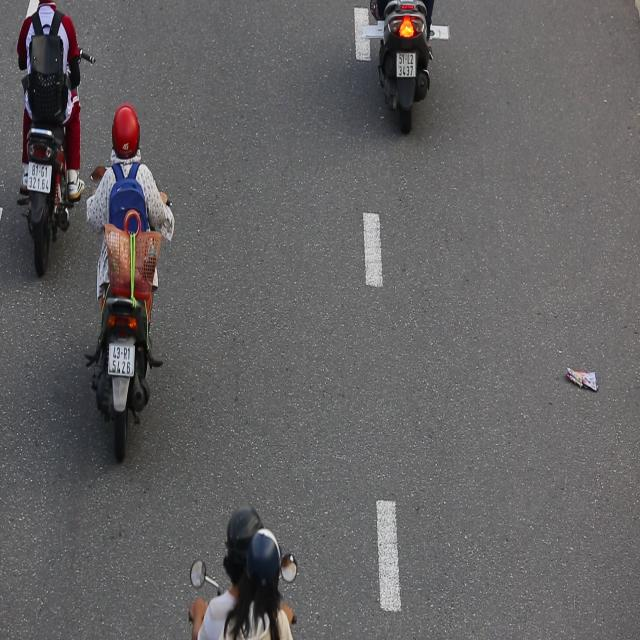motorbike: (86, 100, 177, 464)
